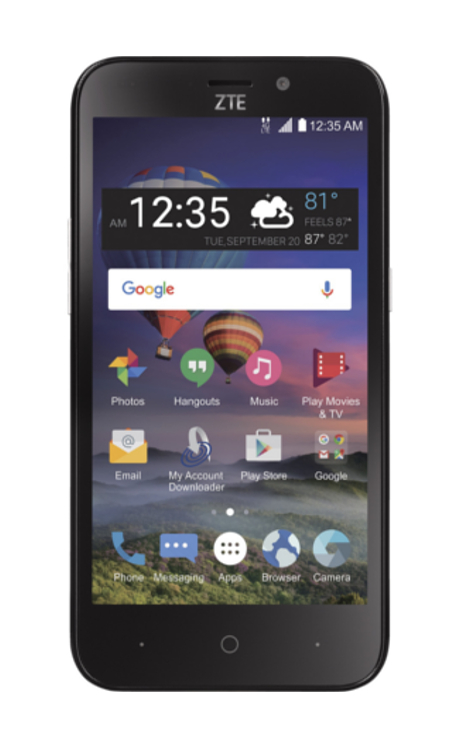mobile: (65, 52, 416, 705)
